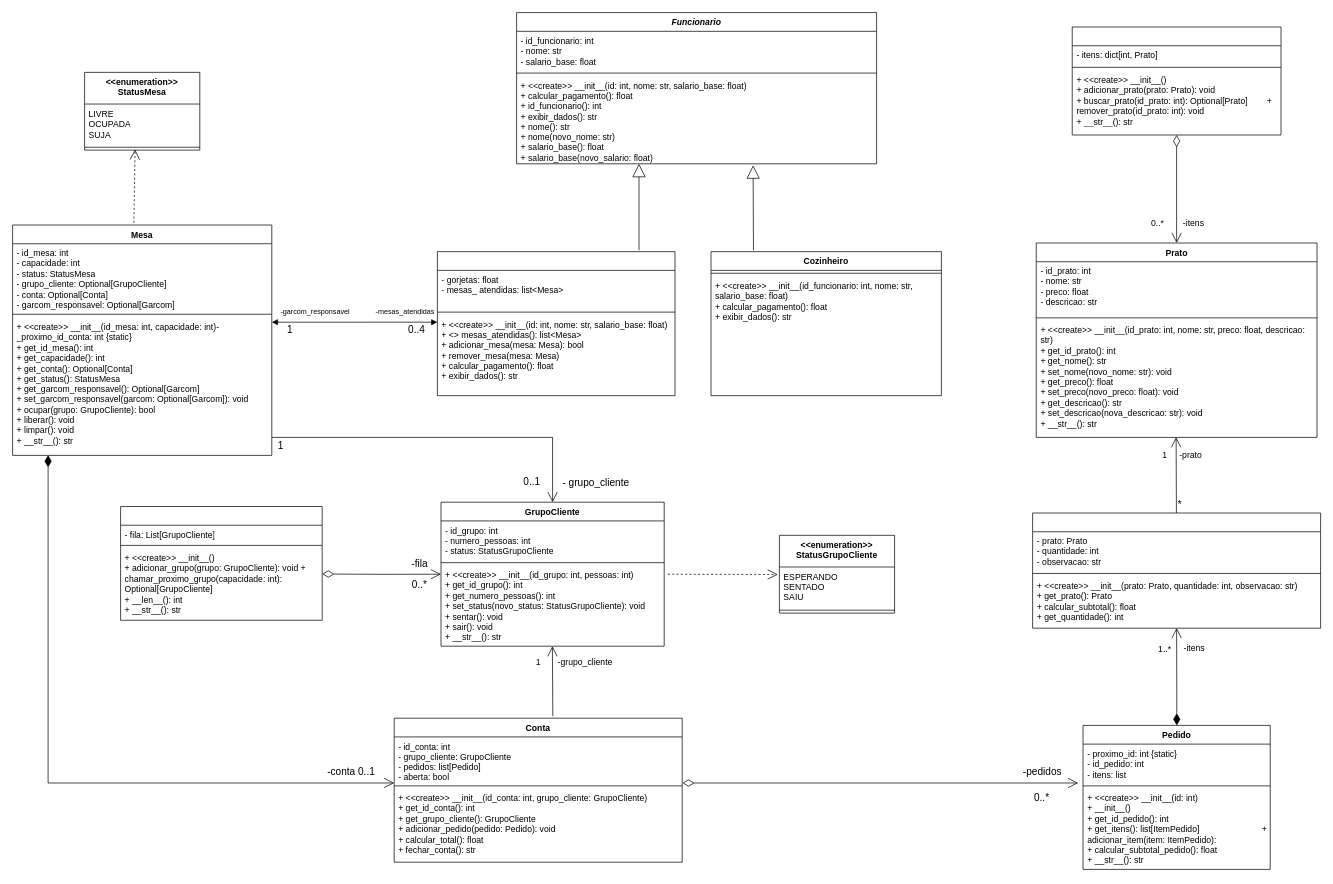
This 1333x884 diagram has some shape labels left out. Here are the shapes that lost their labels. From the top down, the box of each, then its label:
(1072, 26, 1281, 135): Carpdapio
(437, 251, 675, 396): Garcom
(120, 506, 322, 620): FilaDeEspera
(1032, 512, 1321, 628): ItemPedido
